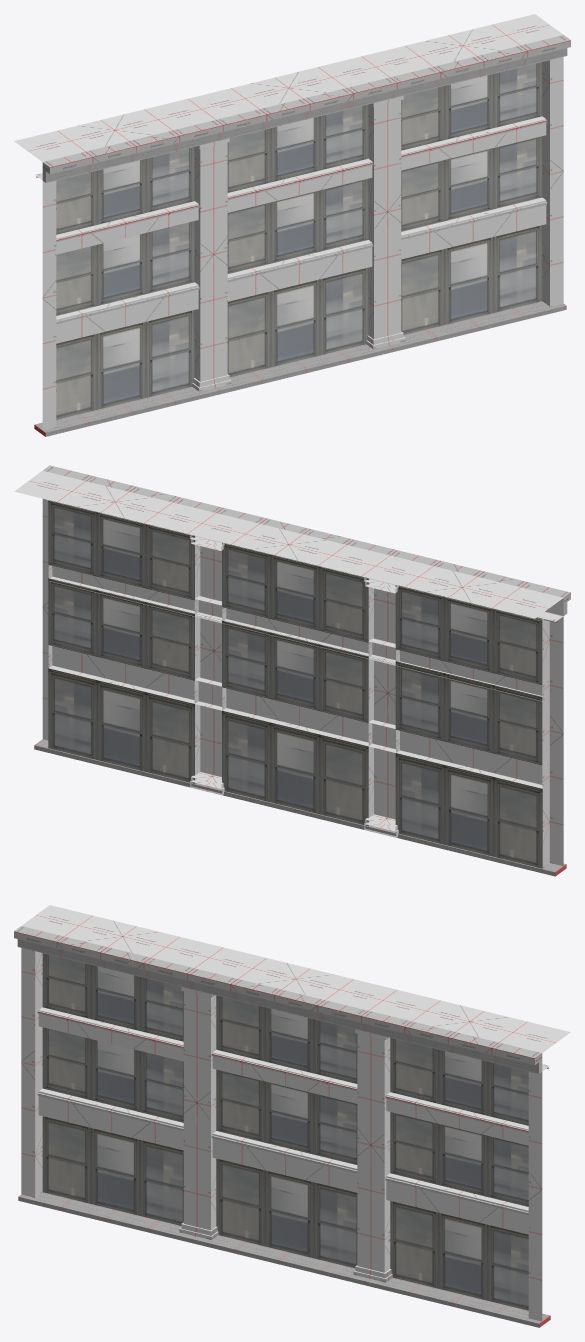
The picture shows the model from 3 angles, top to bottom: view 1: azimuth 30°, elevation 25°; view 2: azimuth 150°, elevation 25°; view 3: azimuth 330°, elevation 25°; orthographic projection.
Parts seen in each view (by area): view 1: S_01_3x_h, S_01_3x_border_t, S_01_3x_border_b, S_01_3x_extra_d; view 2: S_01_3x_h, S_01_3x_border_t, S_01_3x_border_b, S_01_3x_extra_d; view 3: S_01_3x_h, S_01_3x_border_t, S_01_3x_border_b, S_01_3x_extra_d.
Part boxes in pixels (x1,y1,x2,y2): S_01_3x_h: (14,14,563,430); S_01_3x_border_t: (42,35,570,182); S_01_3x_border_b: (34,301,566,436); S_01_3x_extra_d: (192,96,405,391); S_01_3x_h: (14,471,563,868); S_01_3x_border_t: (43,465,570,615); S_01_3x_border_b: (34,739,566,876); S_01_3x_extra_d: (190,534,398,837); S_01_3x_h: (21,905,570,1321); S_01_3x_border_t: (14,926,542,1073); S_01_3x_border_b: (18,1192,550,1327); S_01_3x_extra_d: (179,987,392,1282).
Bounding box in the file's own units: 60.01 × 7.17 × 30.
